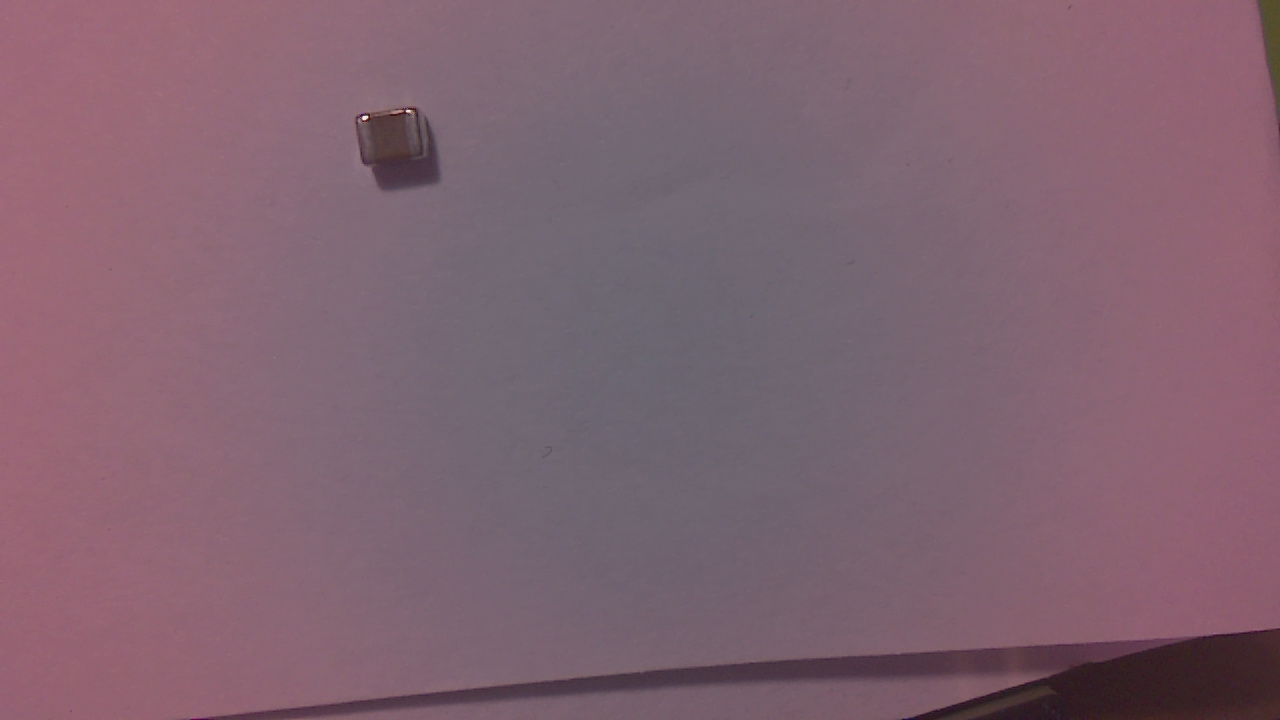Condensator: (362, 111, 440, 173)
